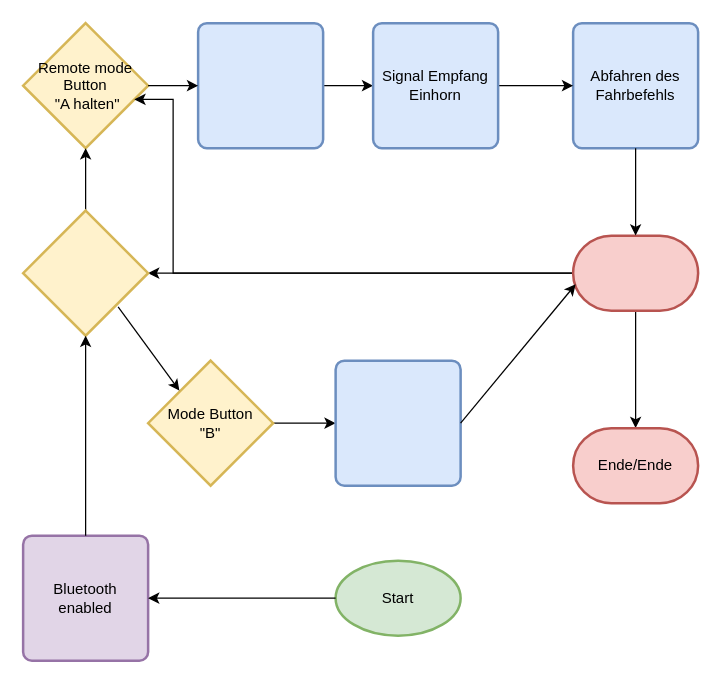
Some shapes in this 720 by 683 pixel diagram are drawn without their labels. The centre of each missing label's shape, as x and y in pixels:
Befehl über Fernsteuerungs- neigung Pfeil als Visualisierung: pixel 260 85
Ende/ Ready: pixel 635 272
Mode Button "A" oder "B": pixel 85 272
Vorgegebener Weg: pixel 397 422
